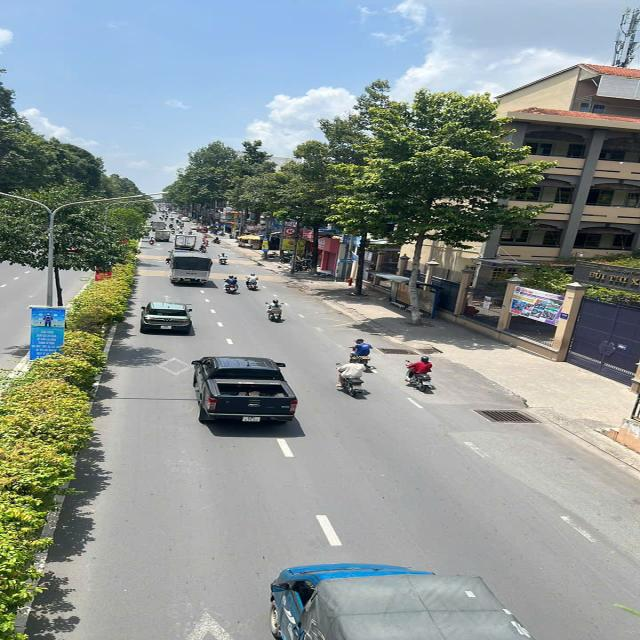Truck: (166, 251, 212, 287), (176, 234, 197, 250), (156, 230, 172, 242), (152, 220, 165, 231)
car: (191, 355, 293, 424), (138, 302, 190, 333), (197, 227, 210, 233), (190, 224, 198, 229), (180, 218, 190, 221)
motobyte: (339, 362, 364, 399), (411, 359, 432, 389), (350, 344, 373, 368), (266, 301, 284, 319), (224, 275, 238, 291), (250, 274, 260, 288), (221, 253, 228, 266), (199, 244, 205, 251), (214, 237, 220, 243), (149, 237, 153, 246), (202, 235, 207, 241), (188, 230, 193, 235), (169, 223, 174, 228), (178, 224, 184, 228), (204, 240, 208, 245), (172, 229, 176, 234), (176, 220, 180, 225), (179, 229, 182, 234), (170, 217, 174, 220)
